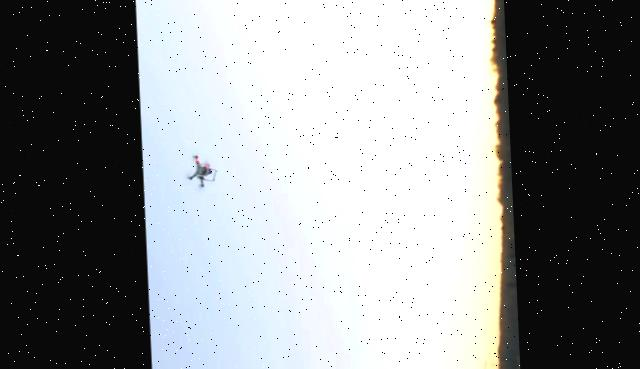drone: (181, 154, 216, 190)
